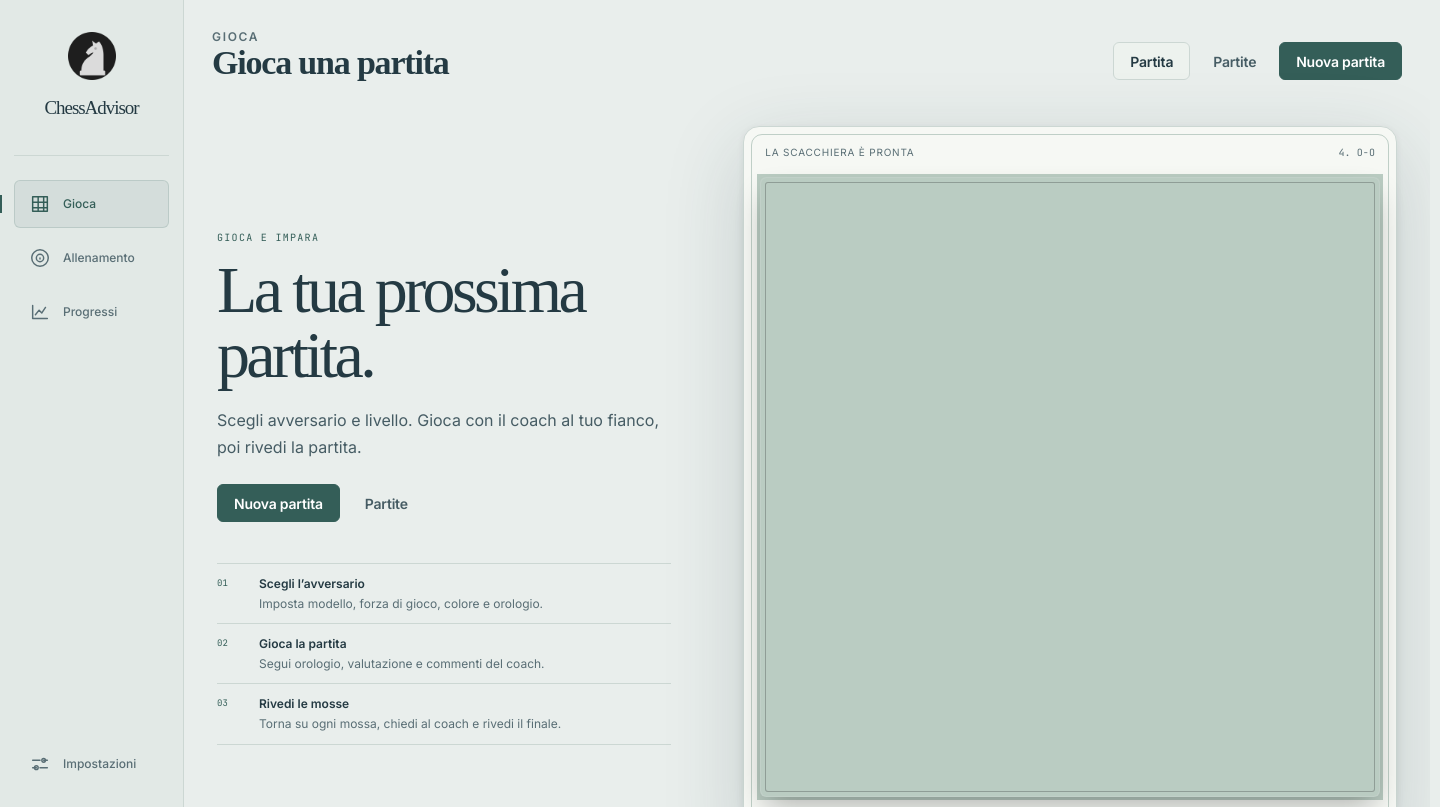
Test: Shell › renders the four rail areas and routes to the selected one
The image size is (1440, 807).
Check: the button "Gioca" is shown, box [14, 180, 169, 228]
Check: the button "Progressi" is shown, box [14, 288, 169, 336]
Click the button "Allenamento" at [92, 258], box [14, 234, 169, 282]
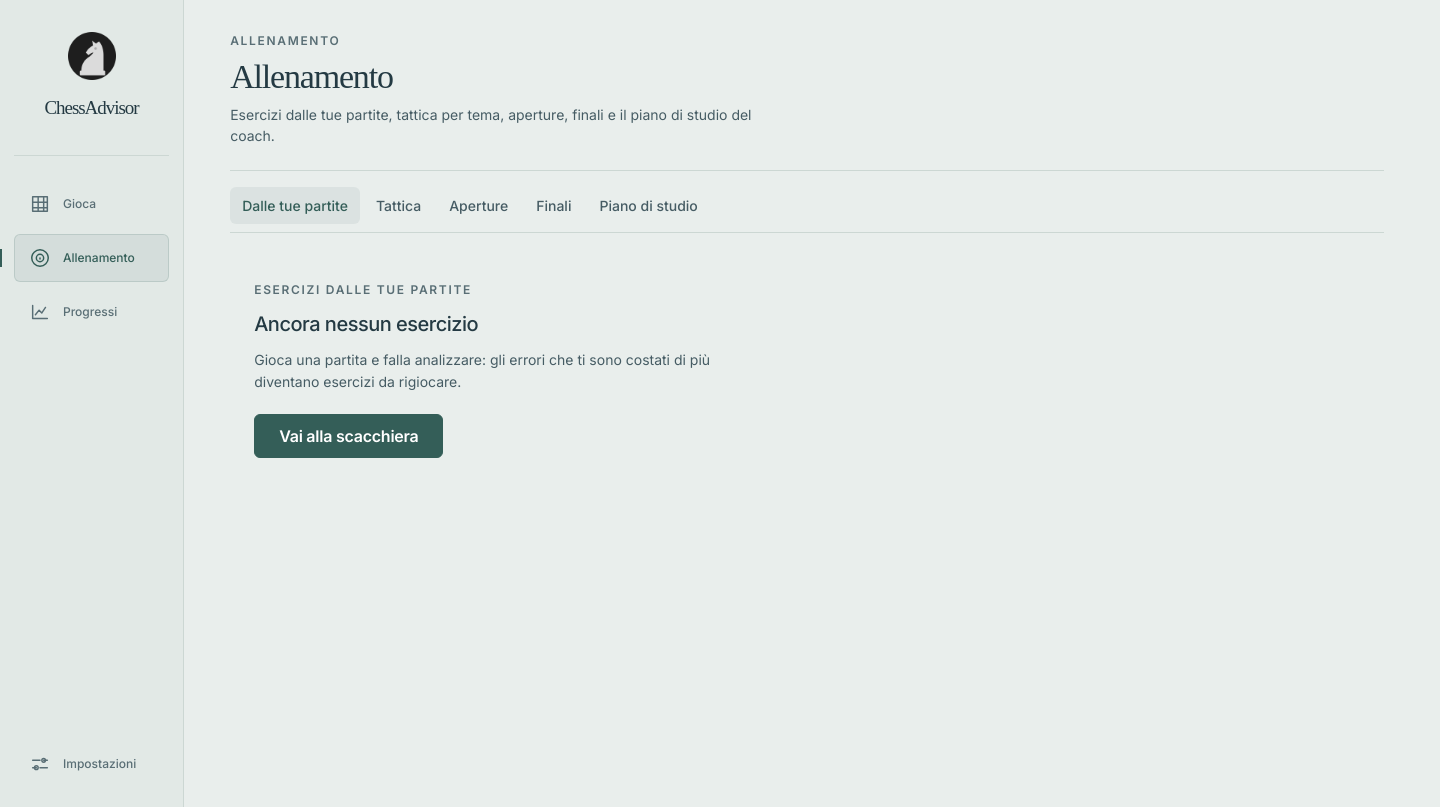
Check: the heading "Allenamento" is shown, box [230, 58, 393, 95]
Check: the element named "Aree di allenamento" is shown, box [230, 187, 1384, 233]
Check: the tab "Piano di studio" is shown, box [587, 187, 710, 224]
Click the button "Impostazioni" at [92, 764], box [14, 740, 169, 788]
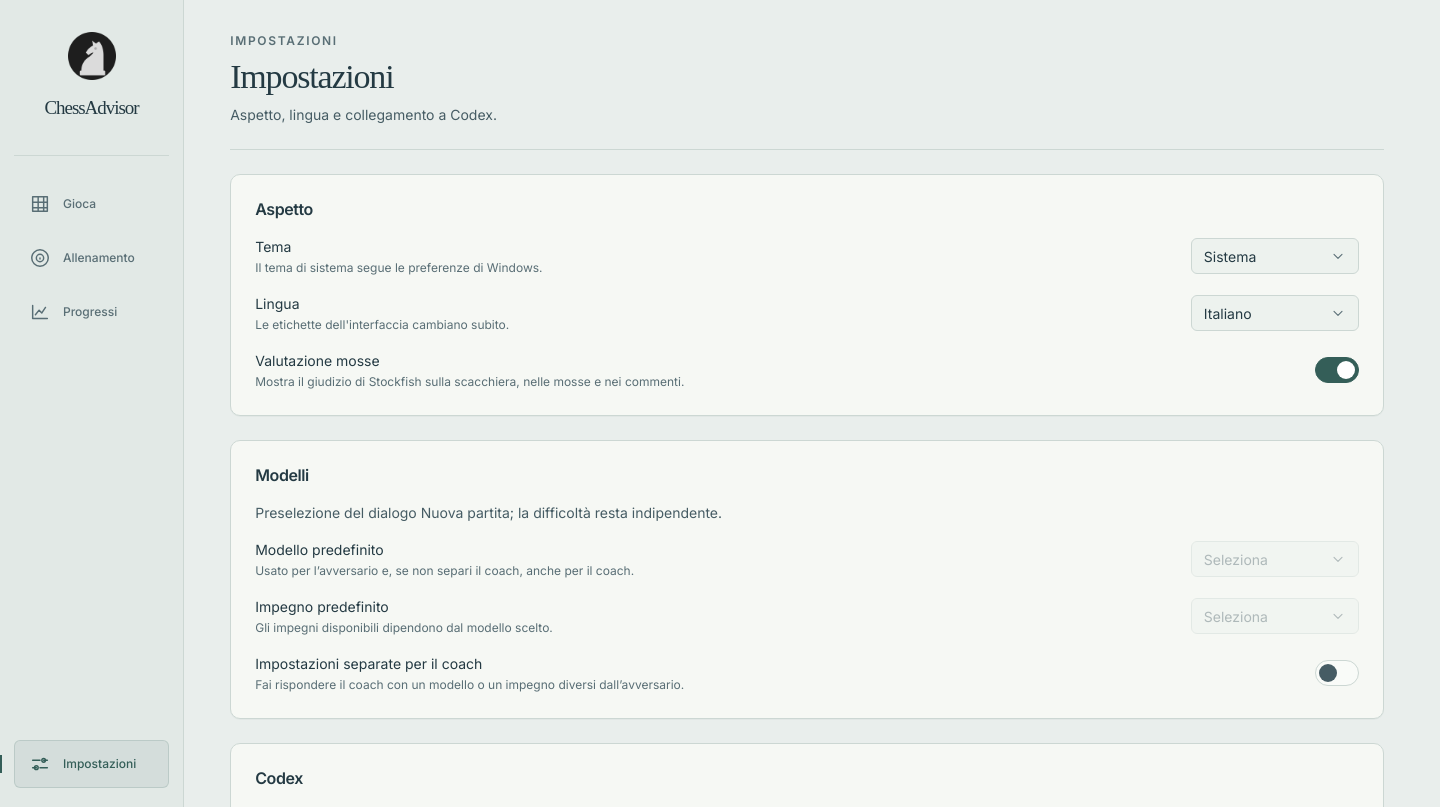
Check: the heading "Impostazioni" is shown, box [230, 58, 394, 95]
